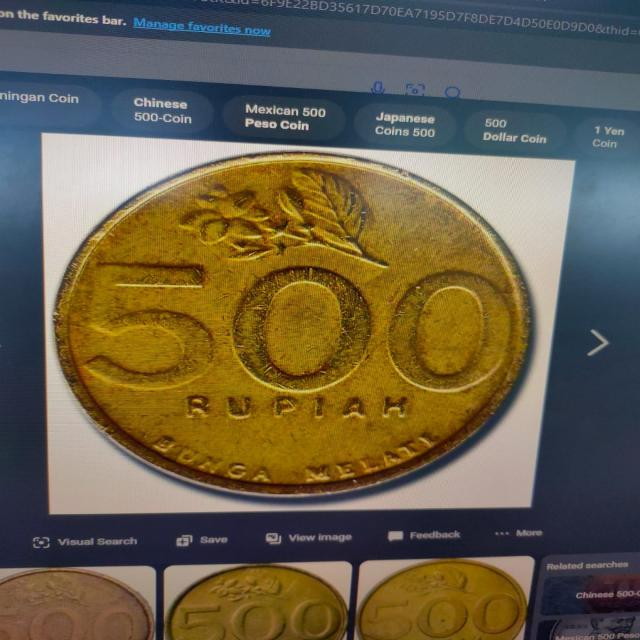500-kuning: (49, 139, 534, 523)
